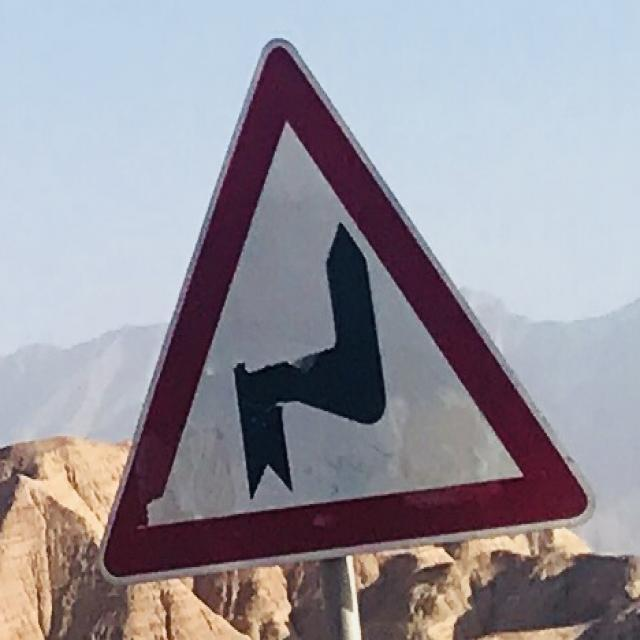right reverse bend: (95, 39, 584, 584)
